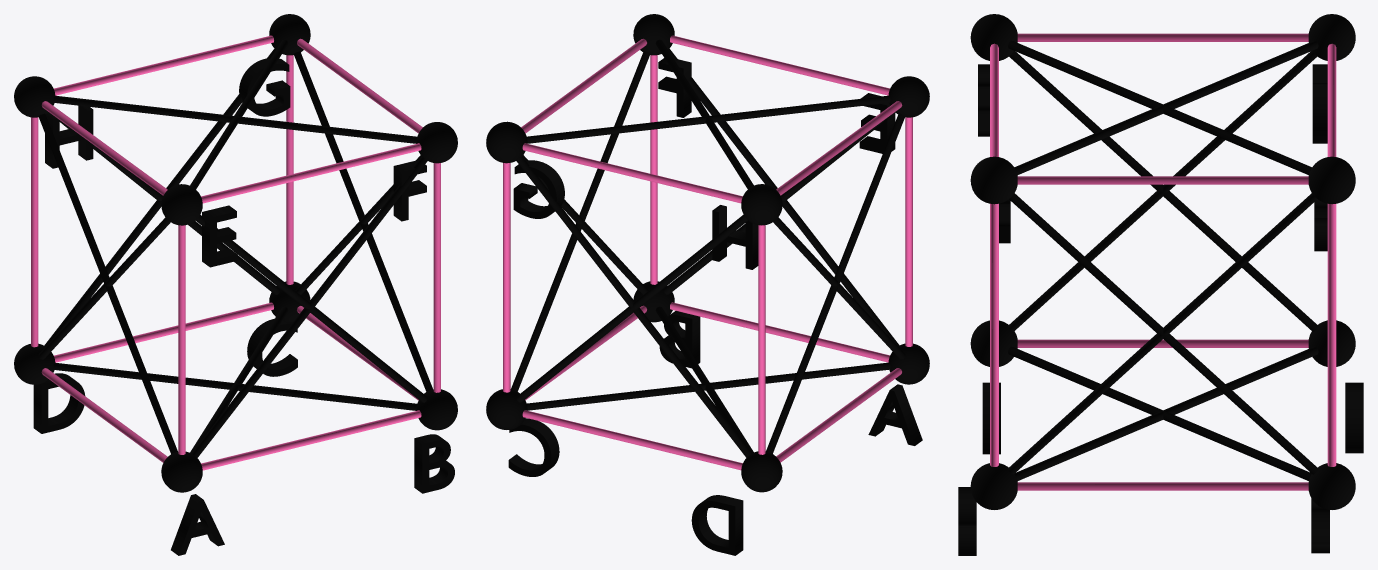
The model's file is res_10290.glb.
3 views of the same model, side by side, from view 1: azimuth 30°, elevation 25°; view 2: azimuth 150°, elevation 25°; view 3: azimuth 270°, elevation 25° (orthographic). The views are drawn at different scales.
Parts seen in each view (by area): view 1: imagetostl_mesh25, imagetostl_mesh23, imagetostl_mesh22, imagetostl_mesh30, imagetostl_mesh31, imagetostl_mesh27, imagetostl_mesh26, Text.001, imagetostl_mesh15, imagetostl_mesh9, imagetostl_mesh11, imagetostl_mesh10 (+28 smaller); view 2: imagetostl_mesh27, imagetostl_mesh24, imagetostl_mesh21, imagetostl_mesh29, imagetostl_mesh32, imagetostl_mesh28, imagetostl_mesh25, Text.003, imagetostl_mesh9, imagetostl_mesh15, imagetostl_mesh18, imagetostl_mesh16 (+28 smaller); view 3: imagetostl_mesh32, imagetostl_mesh31, imagetostl_mesh23, imagetostl_mesh24, imagetostl_mesh22, imagetostl_mesh21, imagetostl_mesh30, imagetostl_mesh29, imagetostl_mesh17, imagetostl_mesh19, imagetostl_mesh13, imagetostl_mesh18 (+20 smaller).
Boxes of the visible parts, <box> form: imagetostl_mesh25: <box>191,156,427,457</box>; imagetostl_mesh23: <box>38,113,177,453</box>; imagetostl_mesh22: <box>53,95,417,143</box>; imagetostl_mesh30: <box>53,362,417,410</box>; imagetostl_mesh31: <box>293,51,432,391</box>; imagetostl_mesh27: <box>44,48,275,346</box>; imagetostl_mesh26: <box>195,215,427,402</box>; Text.001: <box>414,434,454,493</box>; imagetostl_mesh15: <box>31,117,38,347</box>; imagetostl_mesh9: <box>178,225,185,454</box>; imagetostl_mesh11: <box>433,163,440,392</box>; imagetostl_mesh10: <box>201,143,421,203</box>; imagetostl_mesh27: <box>516,156,751,457</box>; imagetostl_mesh24: <box>766,113,905,453</box>; imagetostl_mesh21: <box>527,95,890,143</box>; imagetostl_mesh29: <box>527,362,890,410</box>; imagetostl_mesh32: <box>511,51,650,391</box>; imagetostl_mesh28: <box>516,215,747,402</box>; imagetostl_mesh25: <box>668,48,899,346</box>; Text.003: <box>691,495,743,555</box>; imagetostl_mesh9: <box>905,117,912,346</box>; imagetostl_mesh15: <box>758,225,765,454</box>; imagetostl_mesh18: <box>503,163,510,392</box>; imagetostl_mesh16: <box>522,143,742,203</box>; imagetostl_mesh32: <box>1009,193,1318,474</box>; imagetostl_mesh31: <box>1008,193,1317,474</box>; imagetostl_mesh23: <box>1008,51,1317,331</box>; imagetostl_mesh24: <box>1009,51,1318,331</box>; imagetostl_mesh22: <box>1014,40,1318,174</box>; imagetostl_mesh21: <box>1008,40,1311,175</box>; imagetostl_mesh30: <box>1015,346,1318,480</box>; imagetostl_mesh29: <box>1008,346,1311,480</box>; imagetostl_mesh17: <box>1017,176,1308,184</box>; imagetostl_mesh19: <box>1017,482,1308,490</box>; imagetostl_mesh13: <box>1017,33,1308,41</box>; imagetostl_mesh18: <box>1327,204,1336,466</box>.
Bounding box in the file's own units: 1.14 × 1.36 × 1.2.
